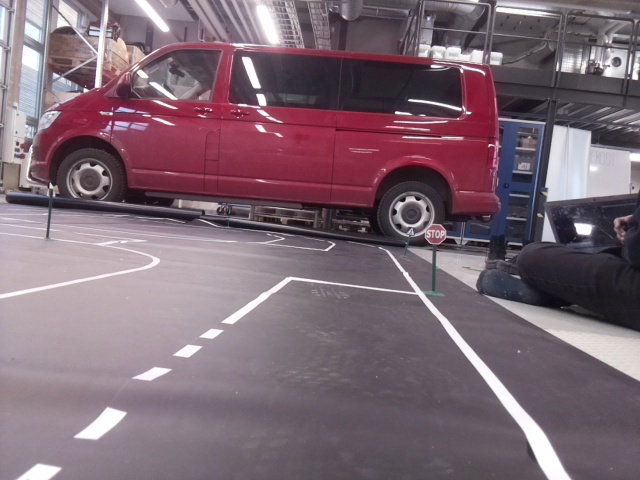Stop: (425, 222, 445, 245)
